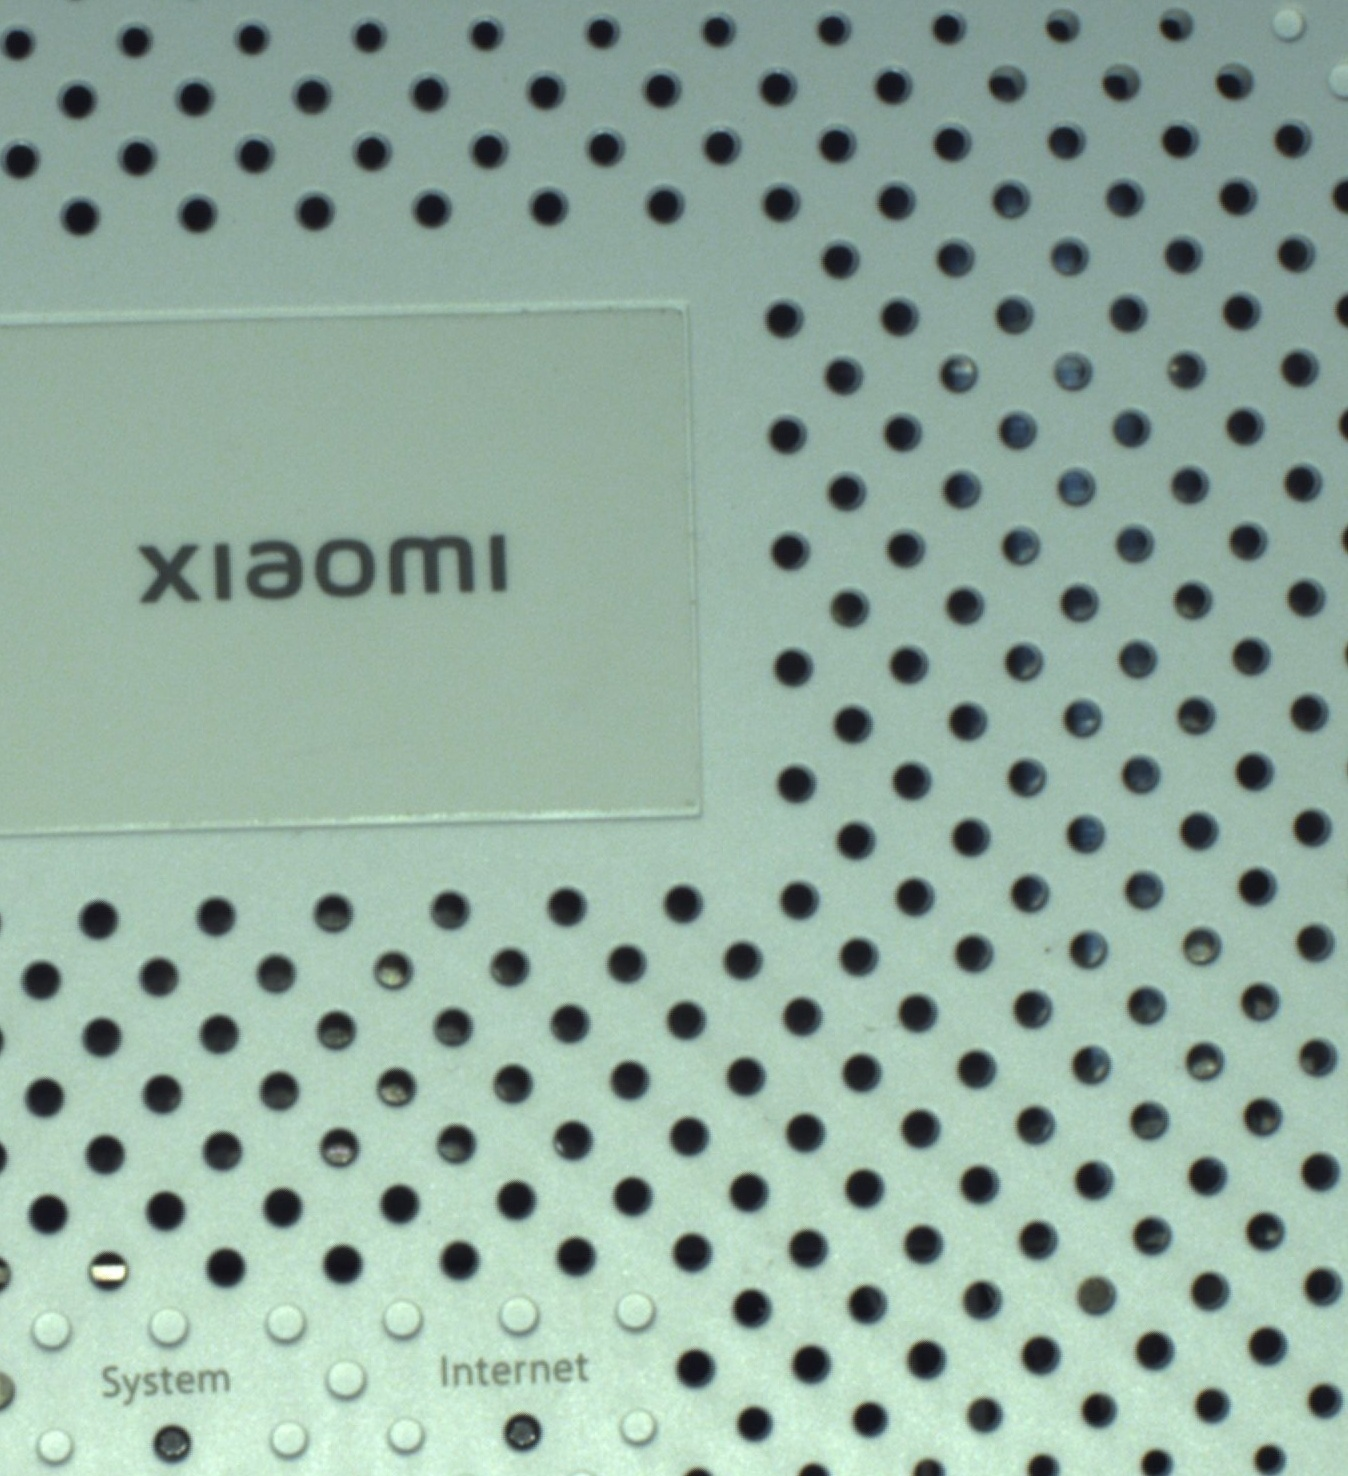MAB_OldUnicom: (134, 516, 530, 613)
